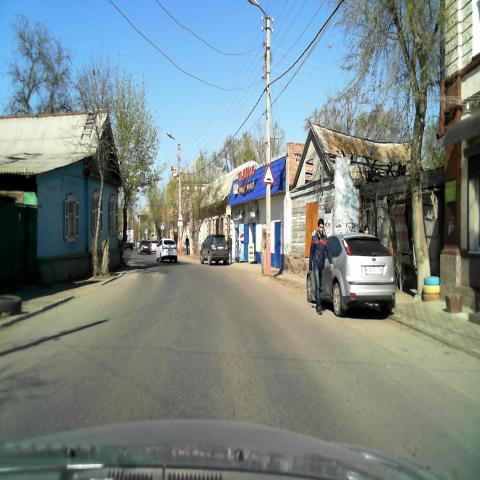1_17: (260, 163, 274, 185)
